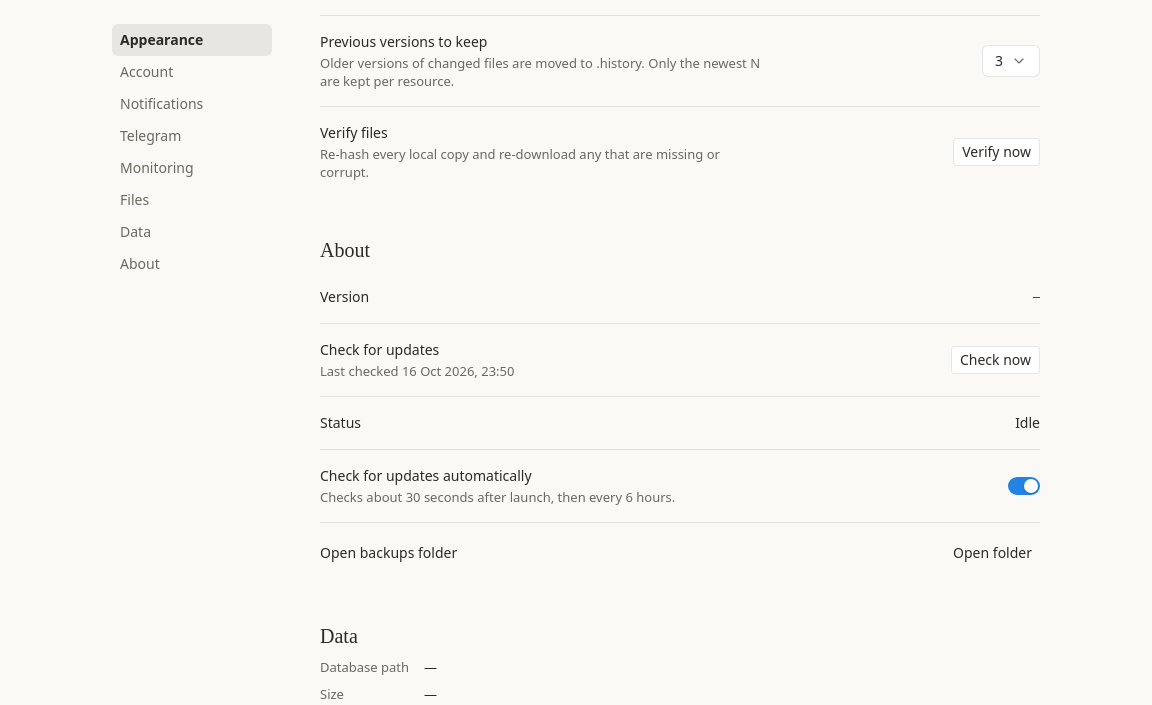
Test case: Settings > About states › shows the error state with the message when the check fails
(page scrolled)
Click the button "Check now": [995, 360] box [951,346,1040,374]
(page scrolled)
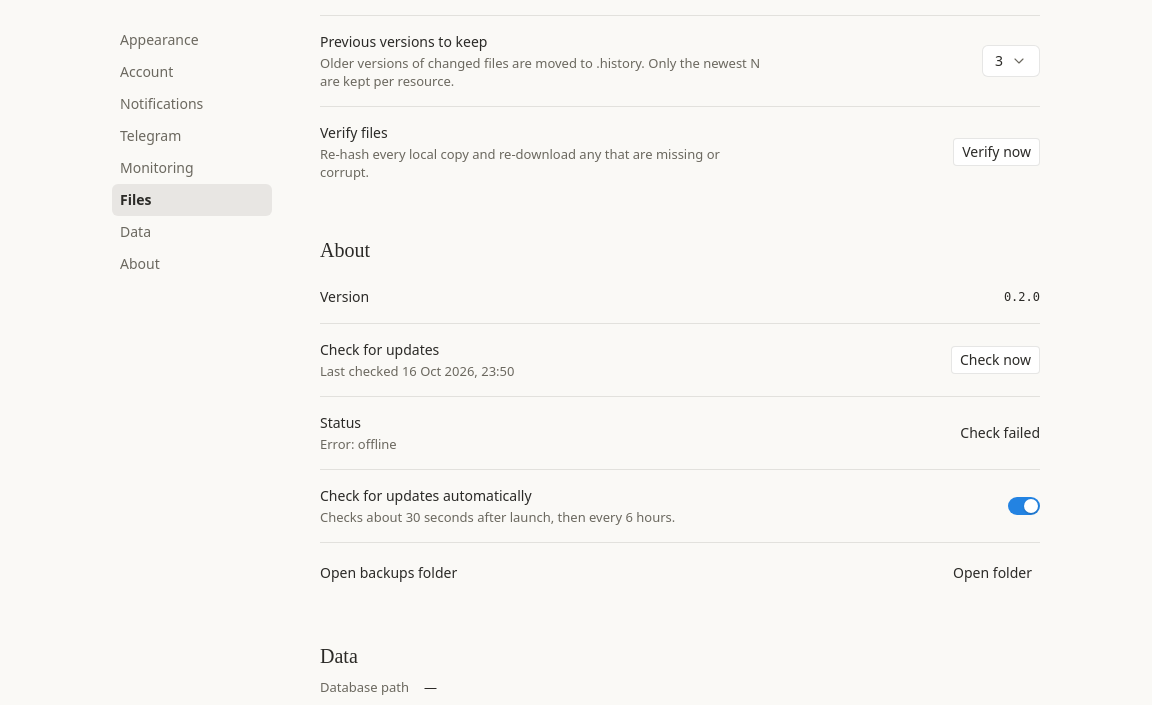
Now the text "Check failed" is shown, box [960,423,1040,443]
